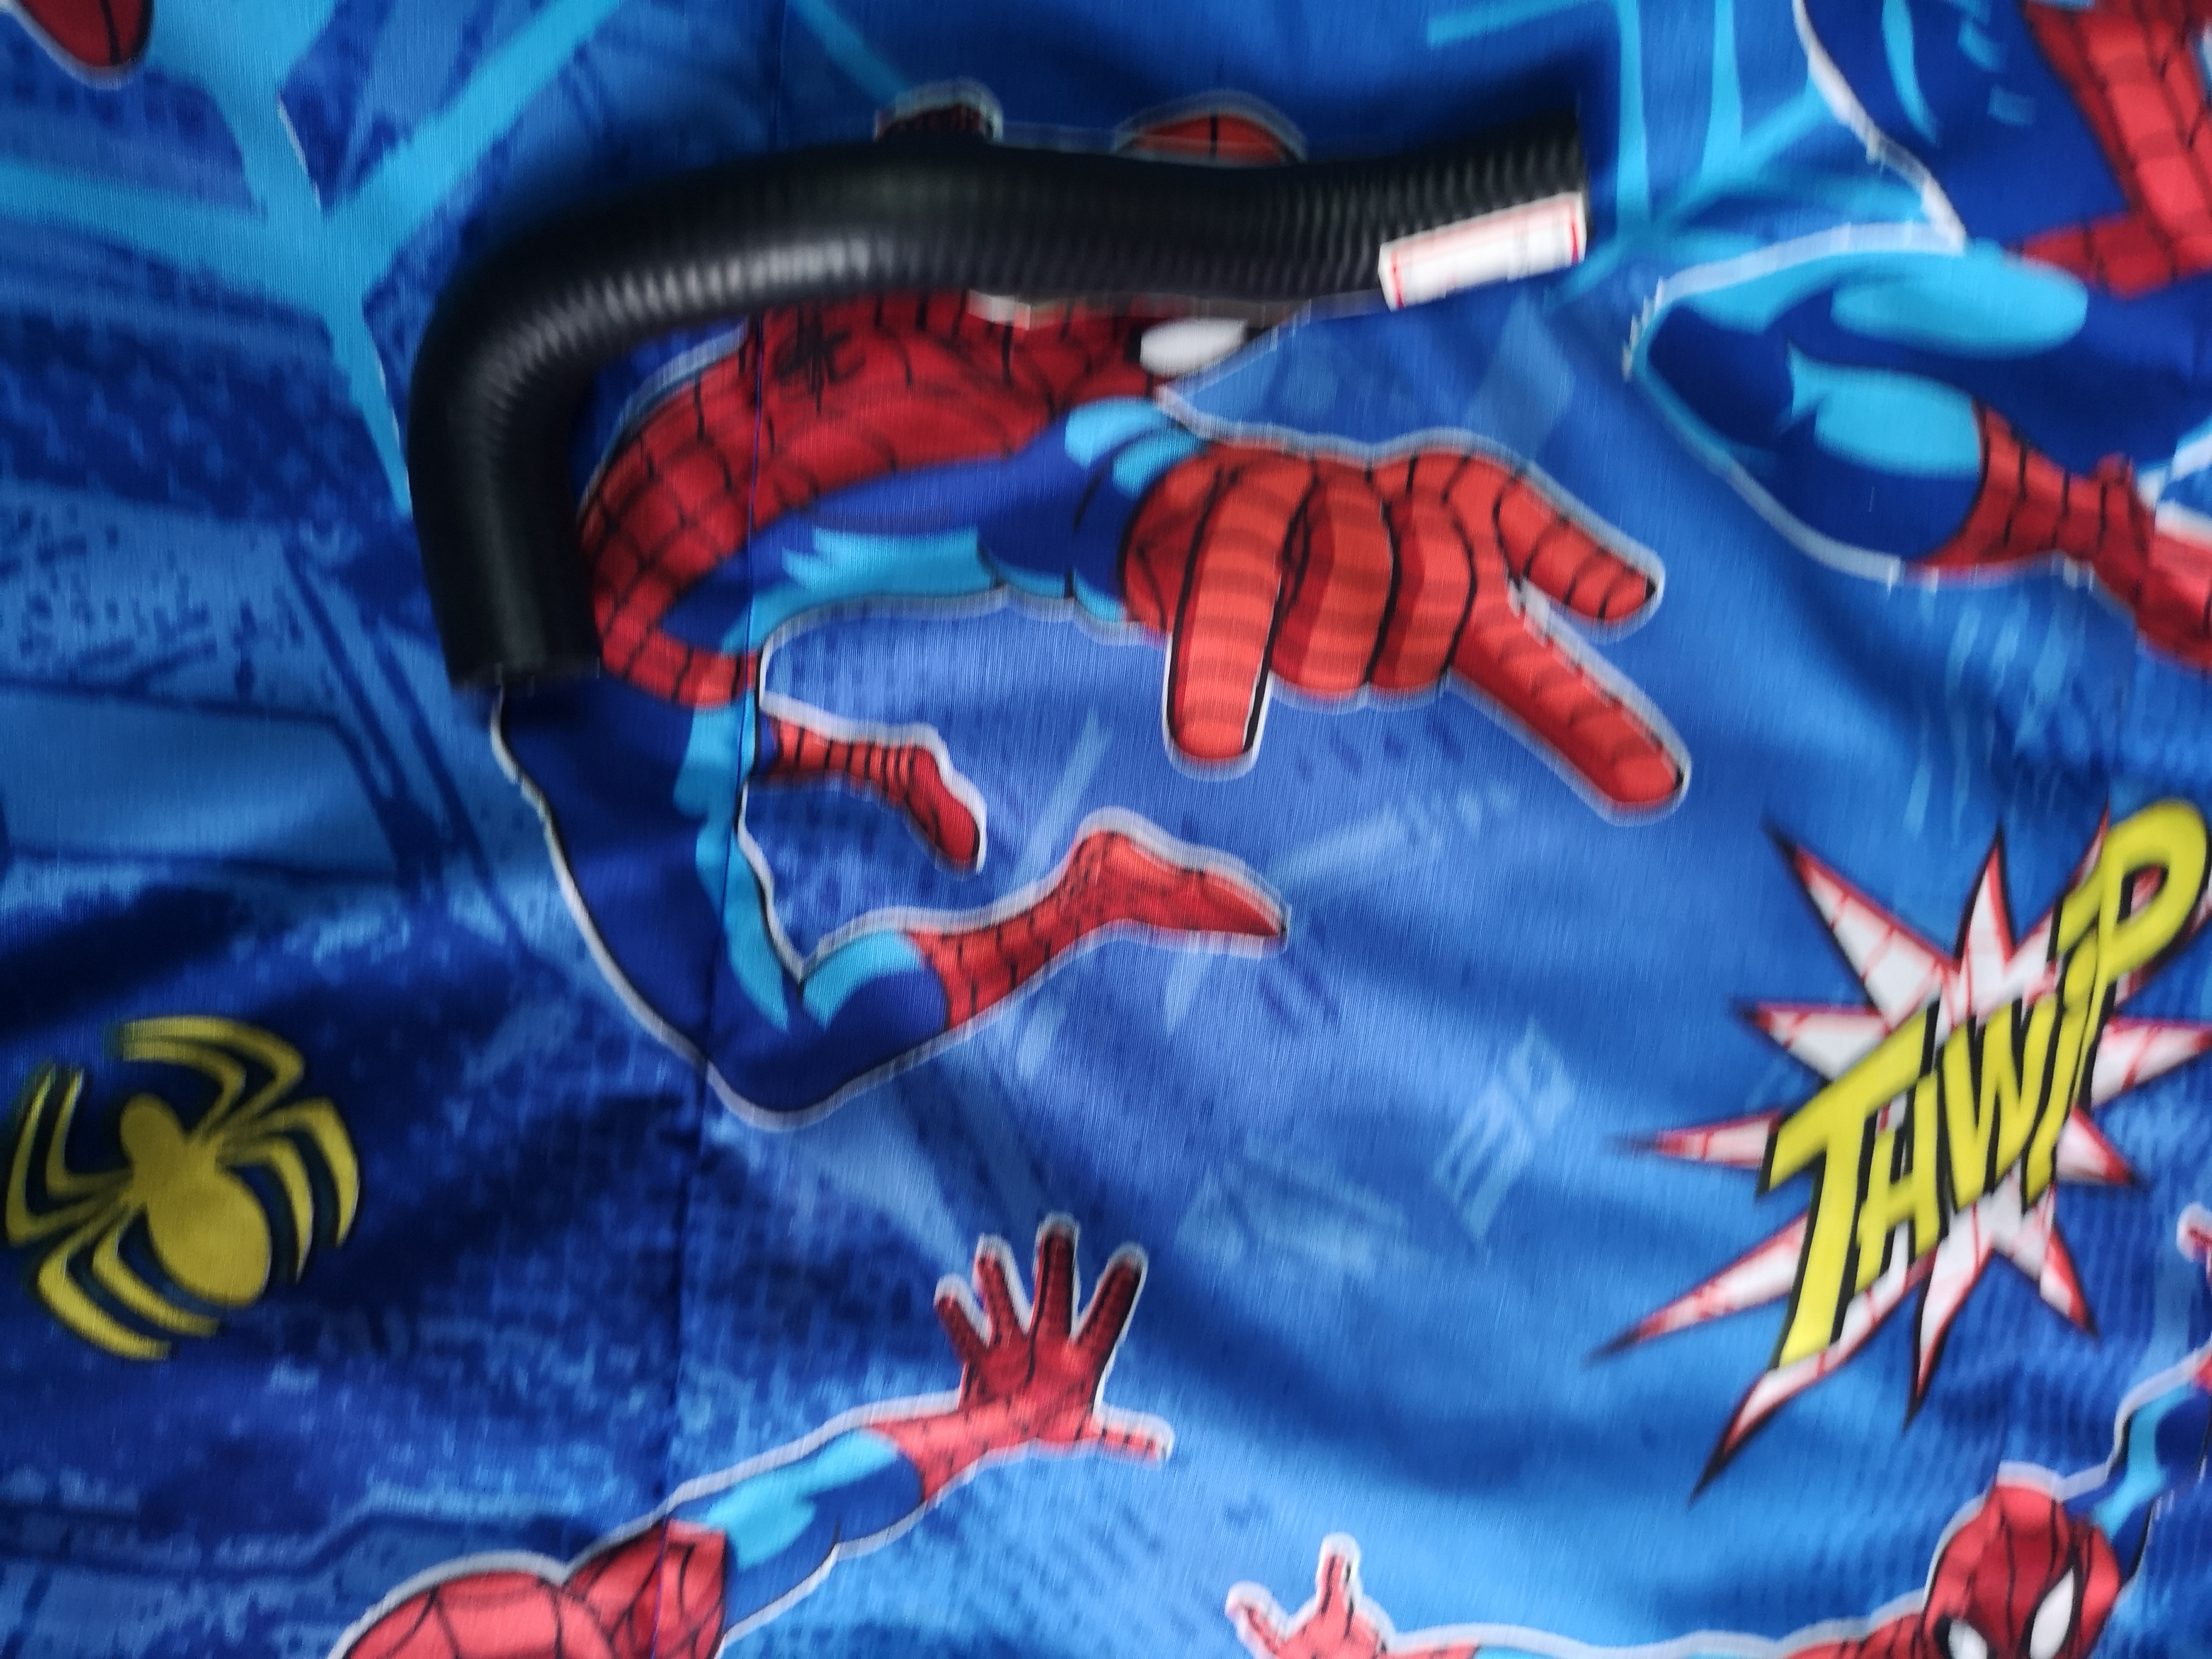ท่อยางน้ำมันเลี้ยงเทอร์โบ: (364, 68, 1635, 683)
